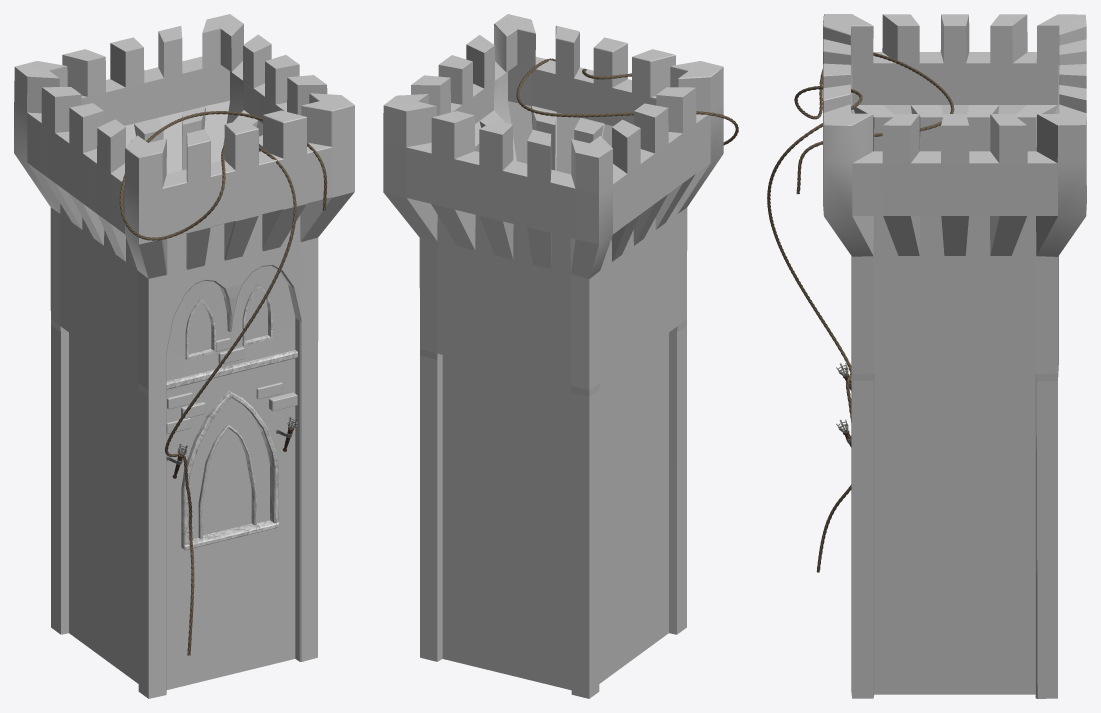
The model's file is Tower.fbx.
3 views of the same model, side by side, from view 1: azimuth 30°, elevation 25°; view 2: azimuth 150°, elevation 25°; view 3: azimuth 270°, elevation 25° (orthographic). The views are drawn at different scales.
Visible parts, largest first — view 1: Tower1; view 2: Tower1; view 3: Tower1.
Boxes of the visible parts, bbox=[...] form: Tower1: bbox=[14, 14, 354, 698]; Tower1: bbox=[383, 14, 738, 698]; Tower1: bbox=[767, 14, 1086, 698].
Size of the model in its own units: 9.76 by 22.36 by 11.06.
